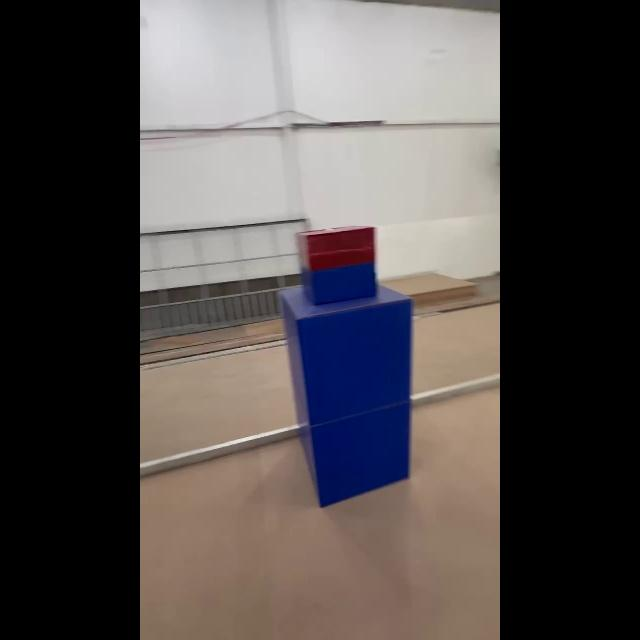earth_block: (276, 290, 414, 420), (276, 401, 415, 521)
sky_block: (289, 224, 379, 304)
